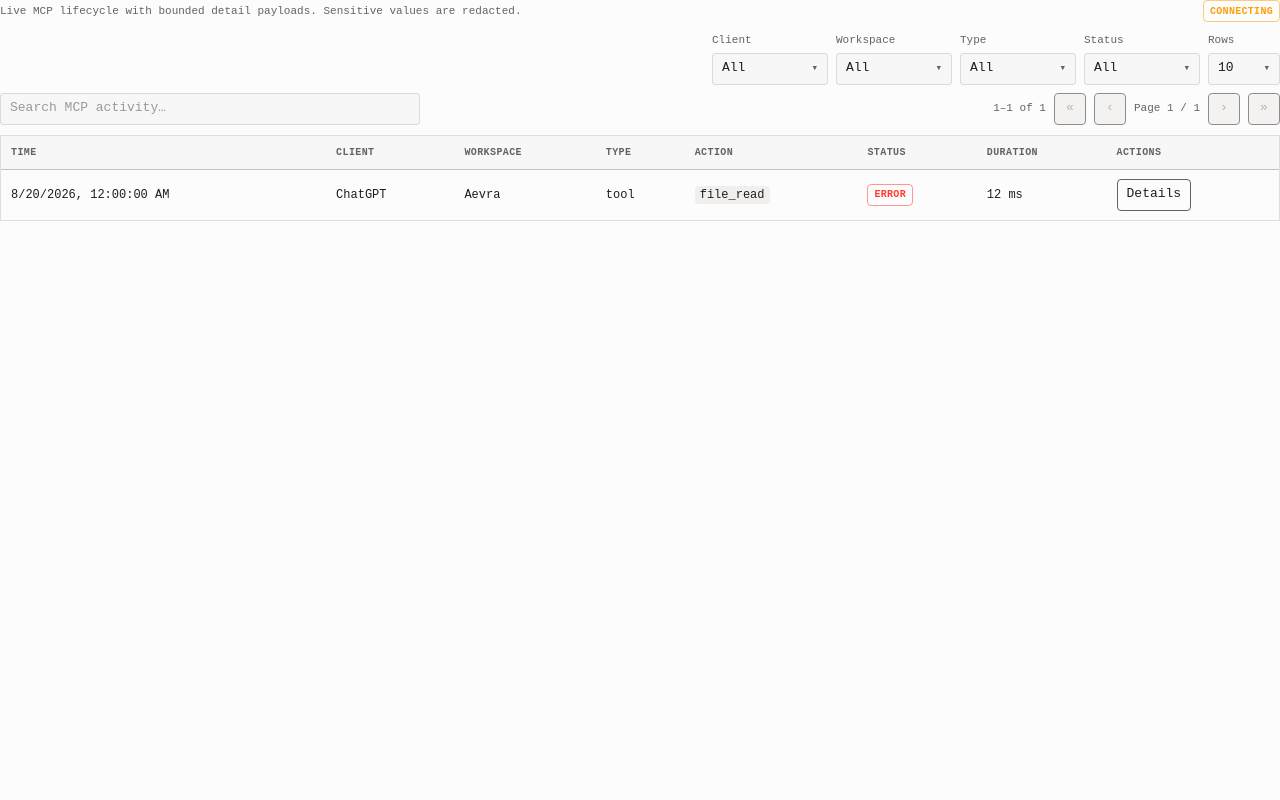
Scenario: live MCP activity detail preserves readable non-JSON output
Step 1. Click the button "Details" → coordinates (1154, 194), box 1116,178 -> 1191,210
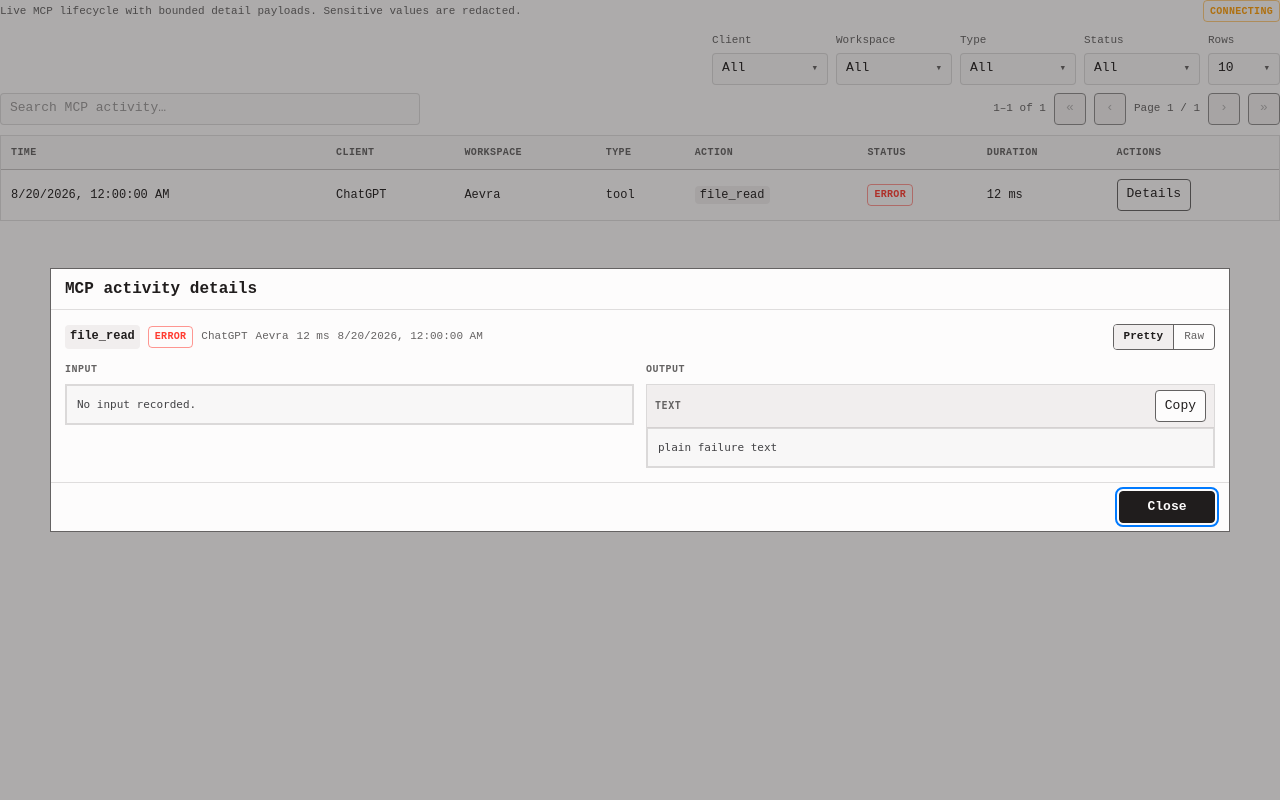
Result: the element showing "TEXT Copy plain failure text" is shown at 646,384 -> 1215,468
Result: the text "TEXT" is shown at 655,398 -> 682,414
Result: the text with test id "json-detail-raw" reads "plain failure text" at 658,441 -> 777,454
